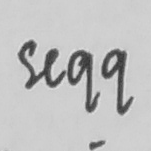e: (41, 45, 65, 90)
q: (99, 46, 134, 116), (66, 47, 98, 116)
s: (15, 37, 40, 92)
